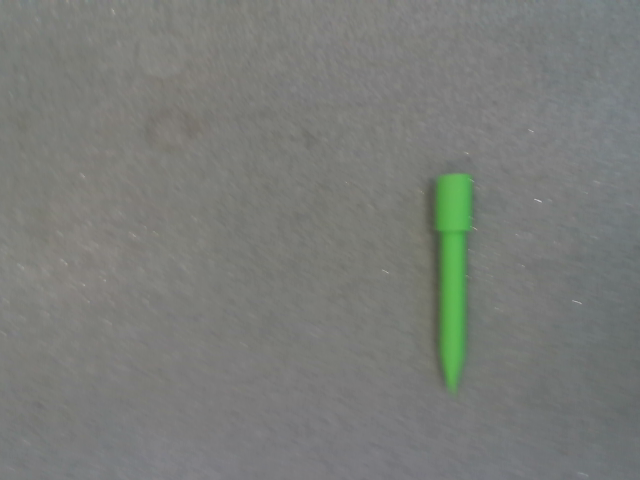Probe: (425, 165, 481, 403)
